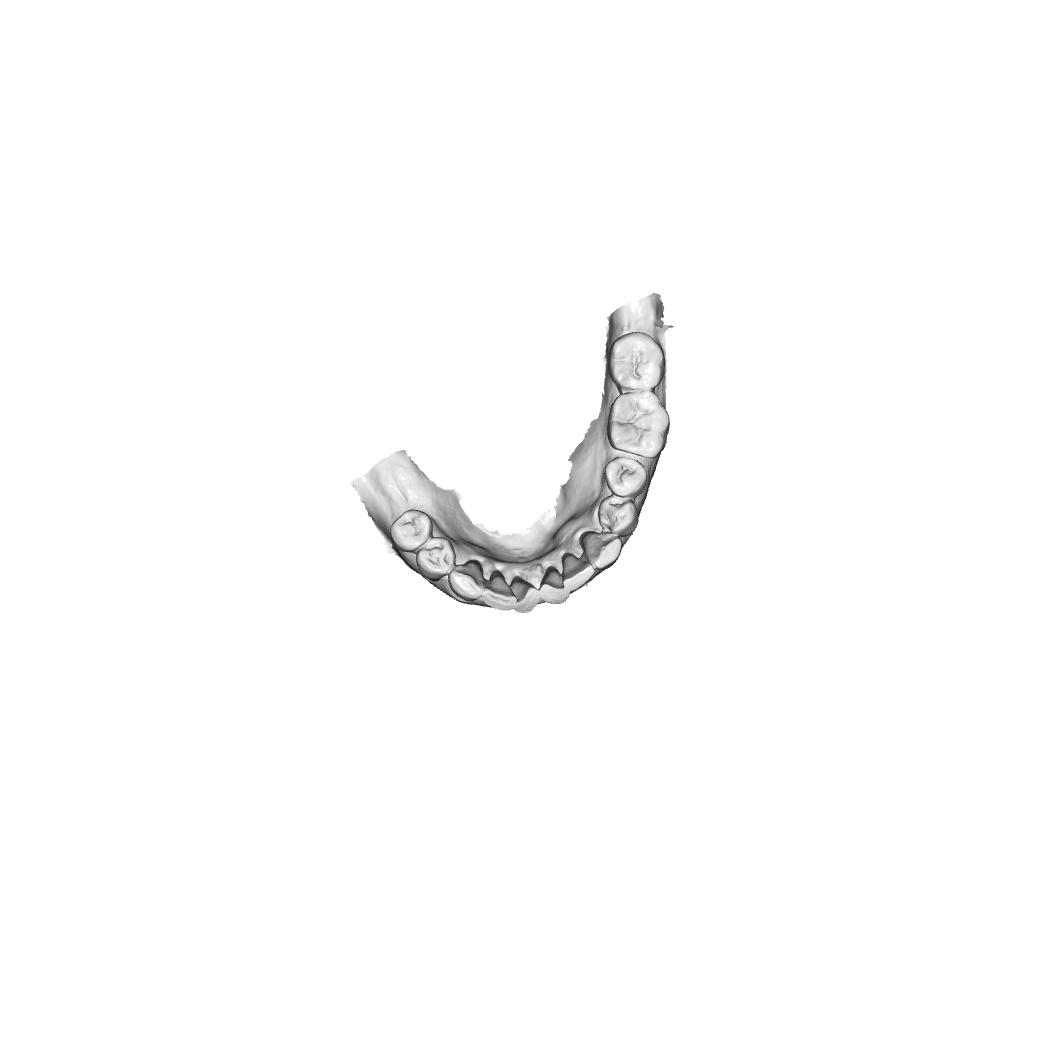canine: (578, 529, 624, 571), (447, 558, 484, 604)
incisor: (559, 551, 596, 593), (482, 570, 518, 613), (538, 564, 571, 605), (509, 574, 541, 616)
molar: (606, 390, 672, 460), (606, 330, 667, 393)
premolar: (388, 507, 435, 554), (602, 455, 650, 498), (596, 494, 640, 538), (415, 536, 455, 583)
